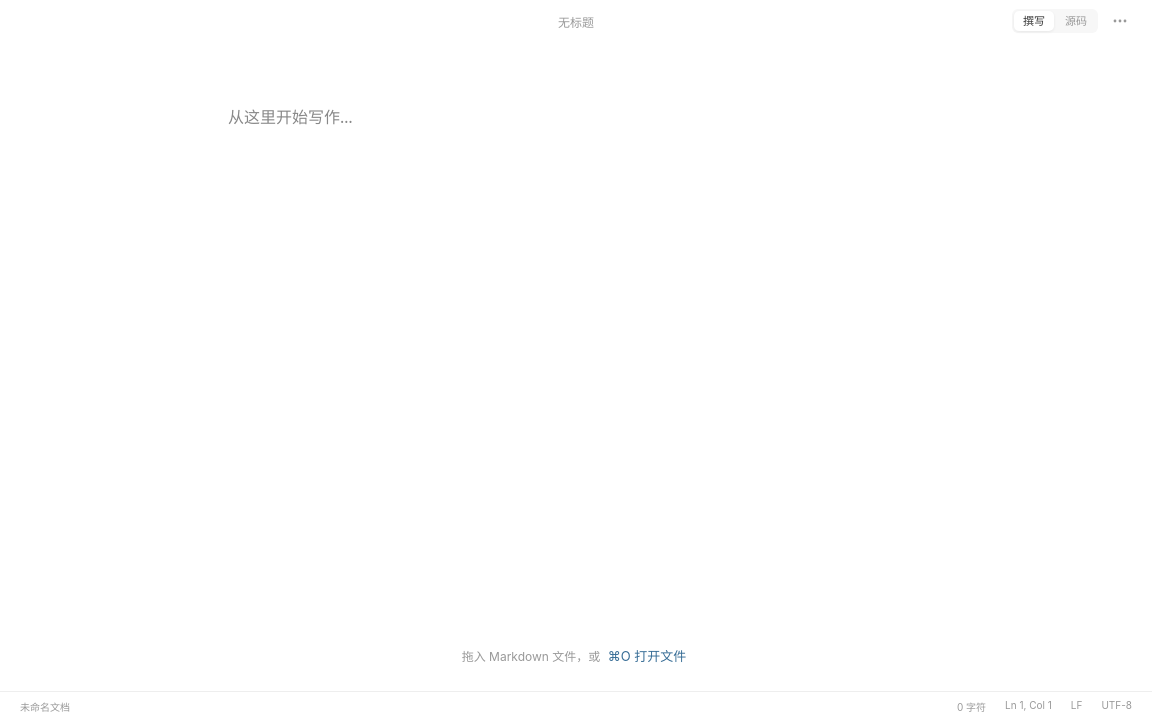
Test: offers opening on an empty document and surfaces picker failures without losing the editor
Click the button "⌘O 打开文件". click: click(647, 656)
box: [604, 642, 690, 669]
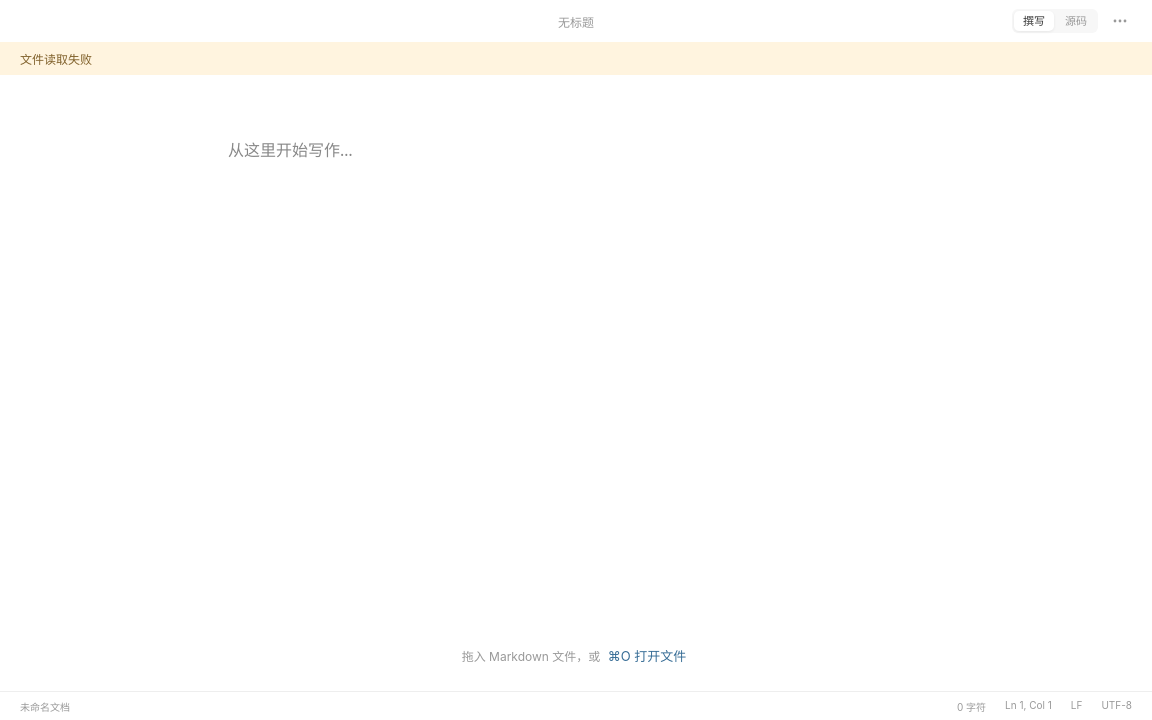
Expected: the field named "文档编辑器" is shown, [228, 139, 353, 161]
Expected: the message reads "文件读取失败", [20, 52, 92, 67]
